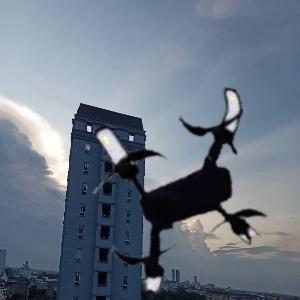drone: (64, 69, 288, 293)
